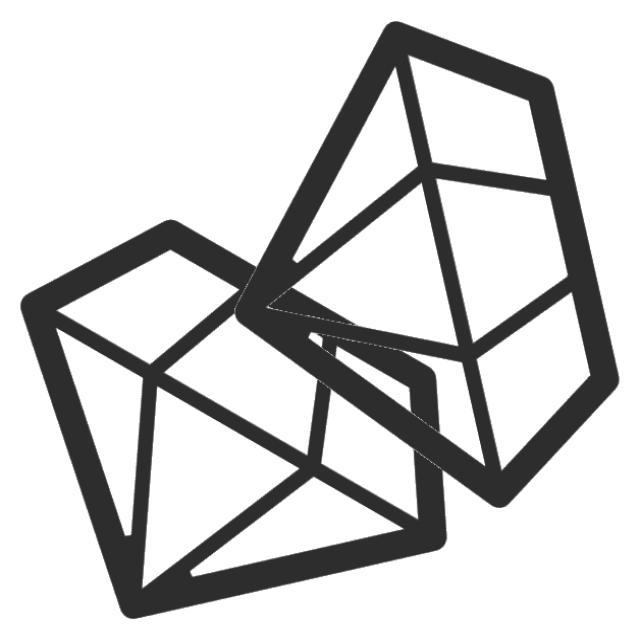diamond: (227, 12, 629, 523), (11, 208, 462, 632)
